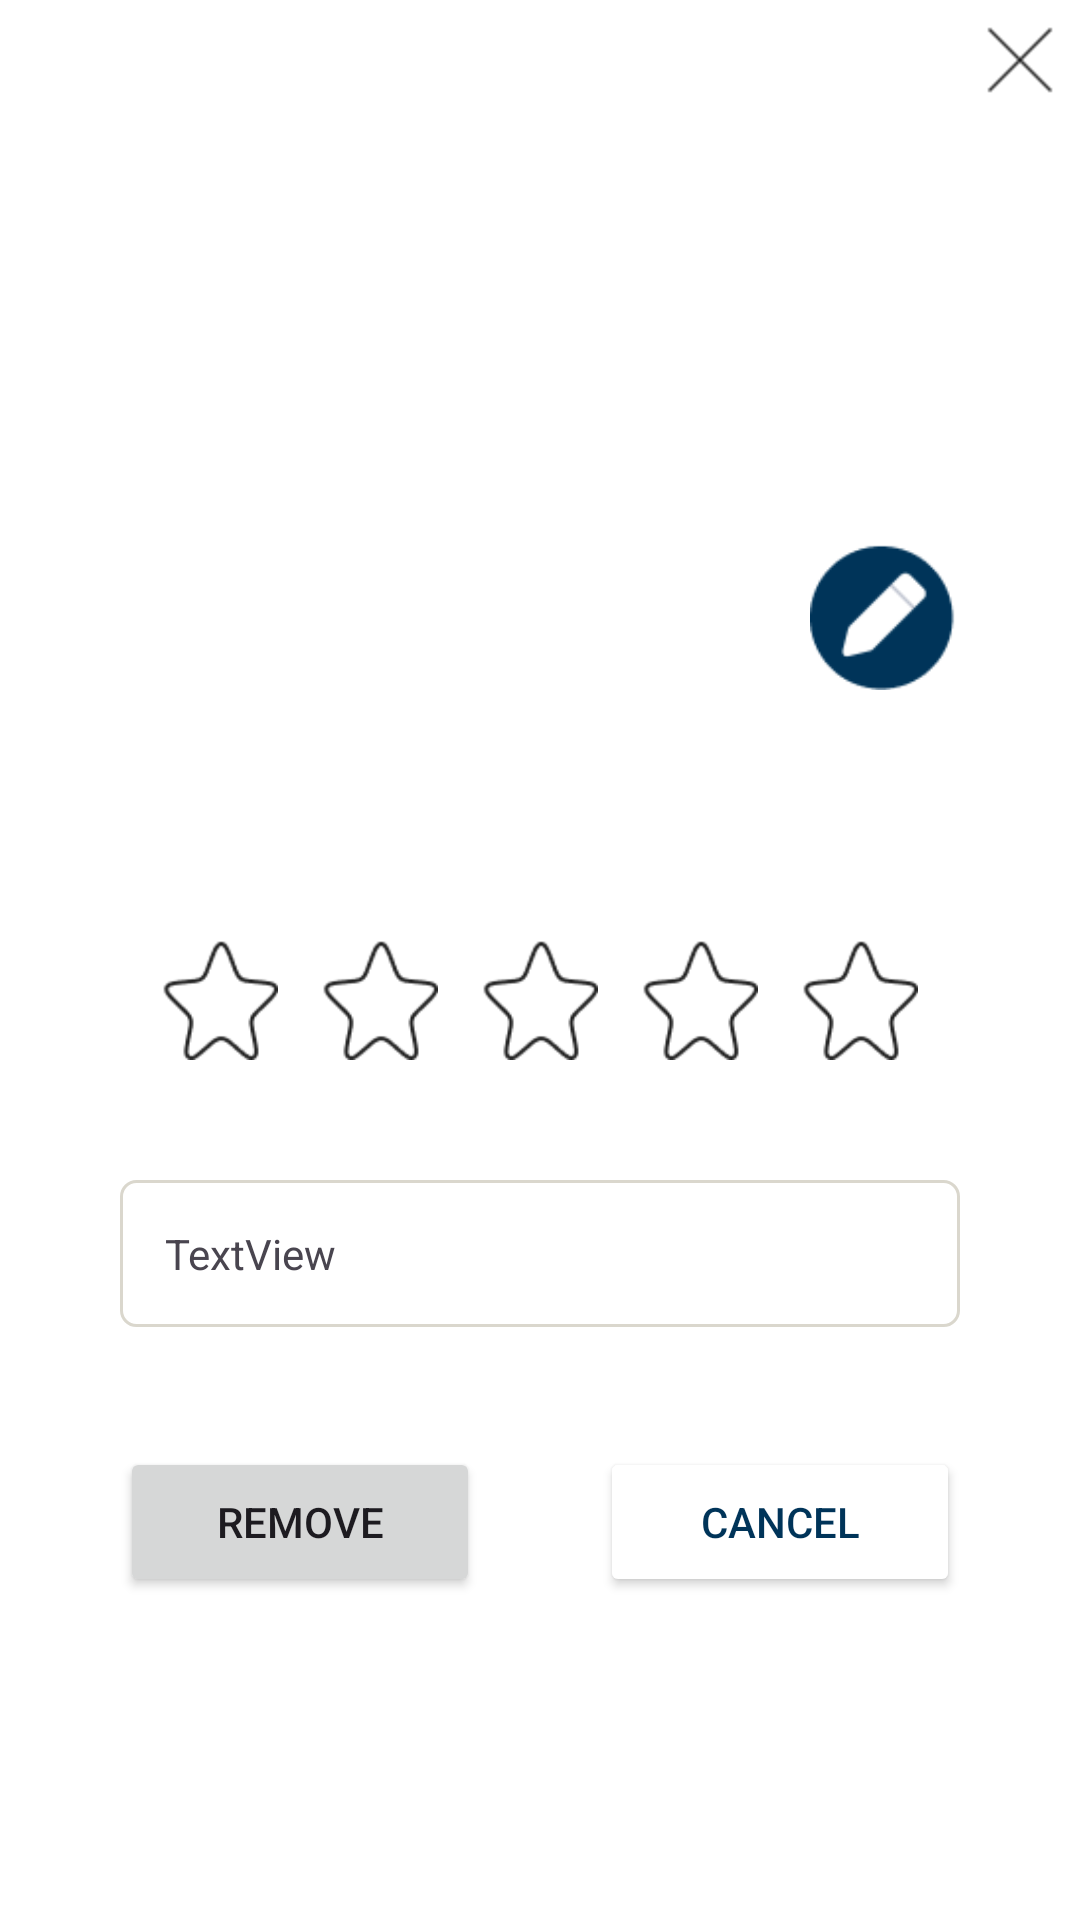

Icon bounding boxes for this 1080×1920 phone screenshot, format Rect(x1, y1, x2, y2):
close: Rect(987, 27, 1053, 93)
edit: Rect(810, 545, 954, 690)
star plain: Rect(163, 941, 278, 1060), Rect(323, 941, 438, 1060), Rect(483, 941, 598, 1060), Rect(643, 941, 758, 1060), Rect(803, 941, 918, 1060)
